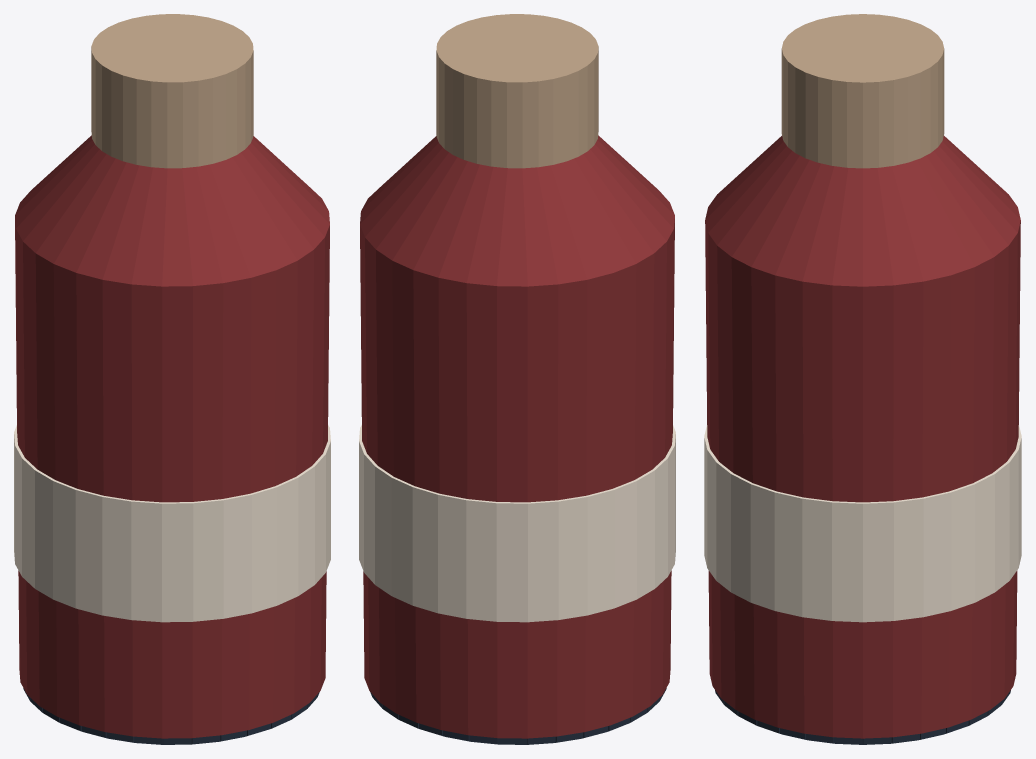
Rendered from bottle.glb.
The picture shows the model from 3 angles, left to right: view 1: azimuth 30°, elevation 25°; view 2: azimuth 150°, elevation 25°; view 3: azimuth 270°, elevation 25°; orthographic projection.
Parts seen in each view (by area): view 1: bottle body, grip band, shoulder, bottle cap; view 2: bottle body, grip band, shoulder, bottle cap; view 3: bottle body, grip band, shoulder, bottle cap.
Part boxes in pixels (box(x1,y1,x2,y2)): bottle body: box(15, 219, 329, 738); grip band: box(14, 425, 330, 622); shoulder: box(15, 135, 329, 286); bottle cap: box(91, 14, 253, 168); bottle body: box(360, 219, 674, 738); grip band: box(359, 425, 675, 622); shoulder: box(360, 135, 674, 286); bottle cap: box(436, 14, 598, 168); bottle body: box(705, 220, 1020, 738); grip band: box(704, 425, 1021, 622); shoulder: box(705, 136, 1020, 286); bottle cap: box(781, 14, 944, 168).
Bounding box in the file's own units: 0.704 × 1.55 × 0.704.
